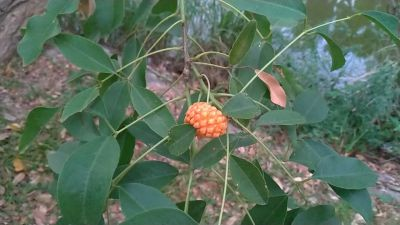eggs: (182, 100, 229, 142)
